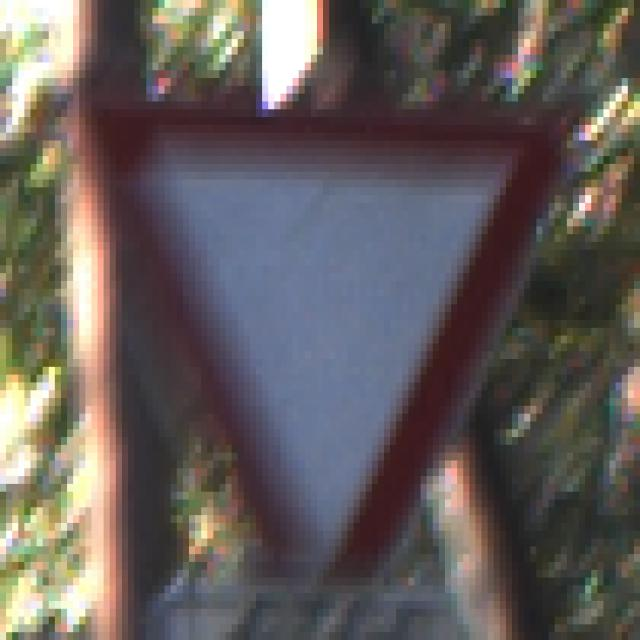Give Way: (62, 56, 580, 586)
